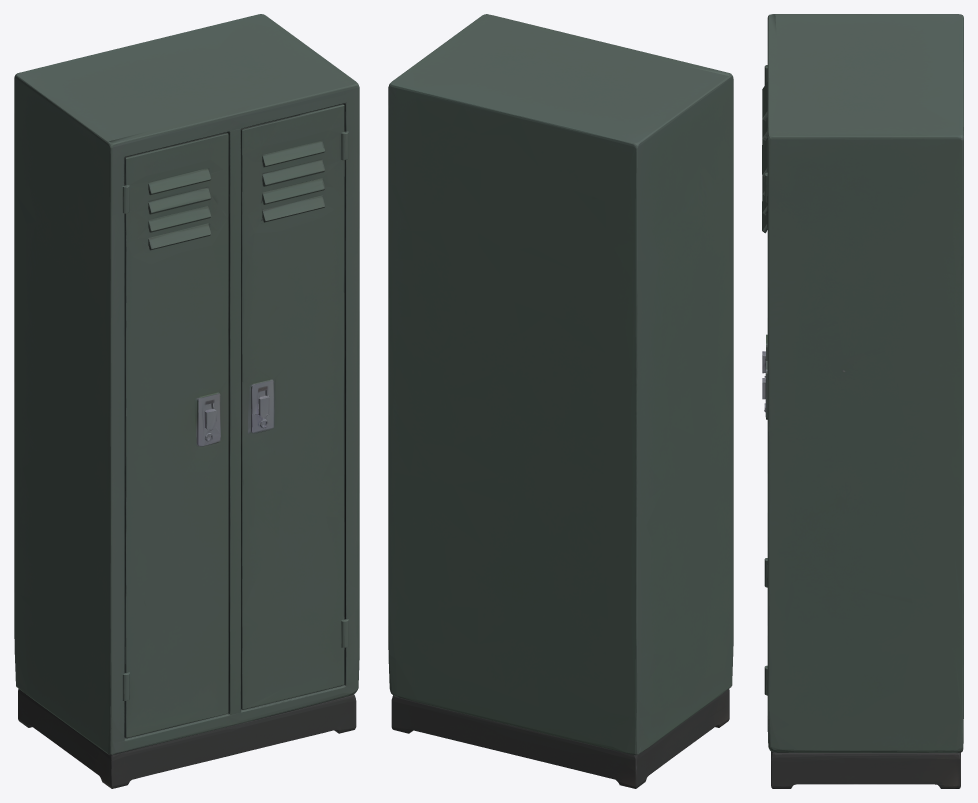
The model's file is locker_unit.glb.
3 views of the same model, side by side, from view 1: azimuth 30°, elevation 25°; view 2: azimuth 150°, elevation 25°; view 3: azimuth 270°, elevation 25° (orthographic).
Parts seen in each view (by area): view 1: locker_unit; view 2: locker_unit; view 3: locker_unit.
Part boxes in pixels (left/top/right/bottom): locker_unit: left=14, top=14, right=359, bottom=788; locker_unit: left=388, top=14, right=733, bottom=788; locker_unit: left=762, top=14, right=963, bottom=788.
Size of the model in its own units: 0.7275 by 1.8 by 0.5035.
Materials: 1 (1 with a texture image).
